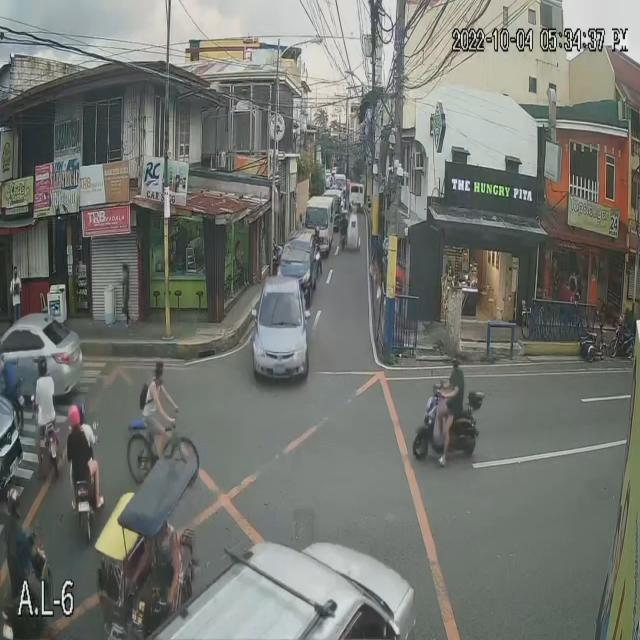half: (6, 485, 23, 525), (67, 404, 82, 430)
invalid: (450, 351, 460, 371)
